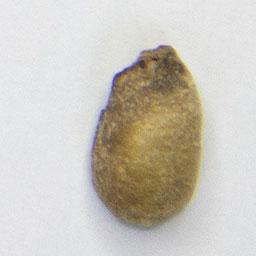defect: (87, 40, 206, 232)
